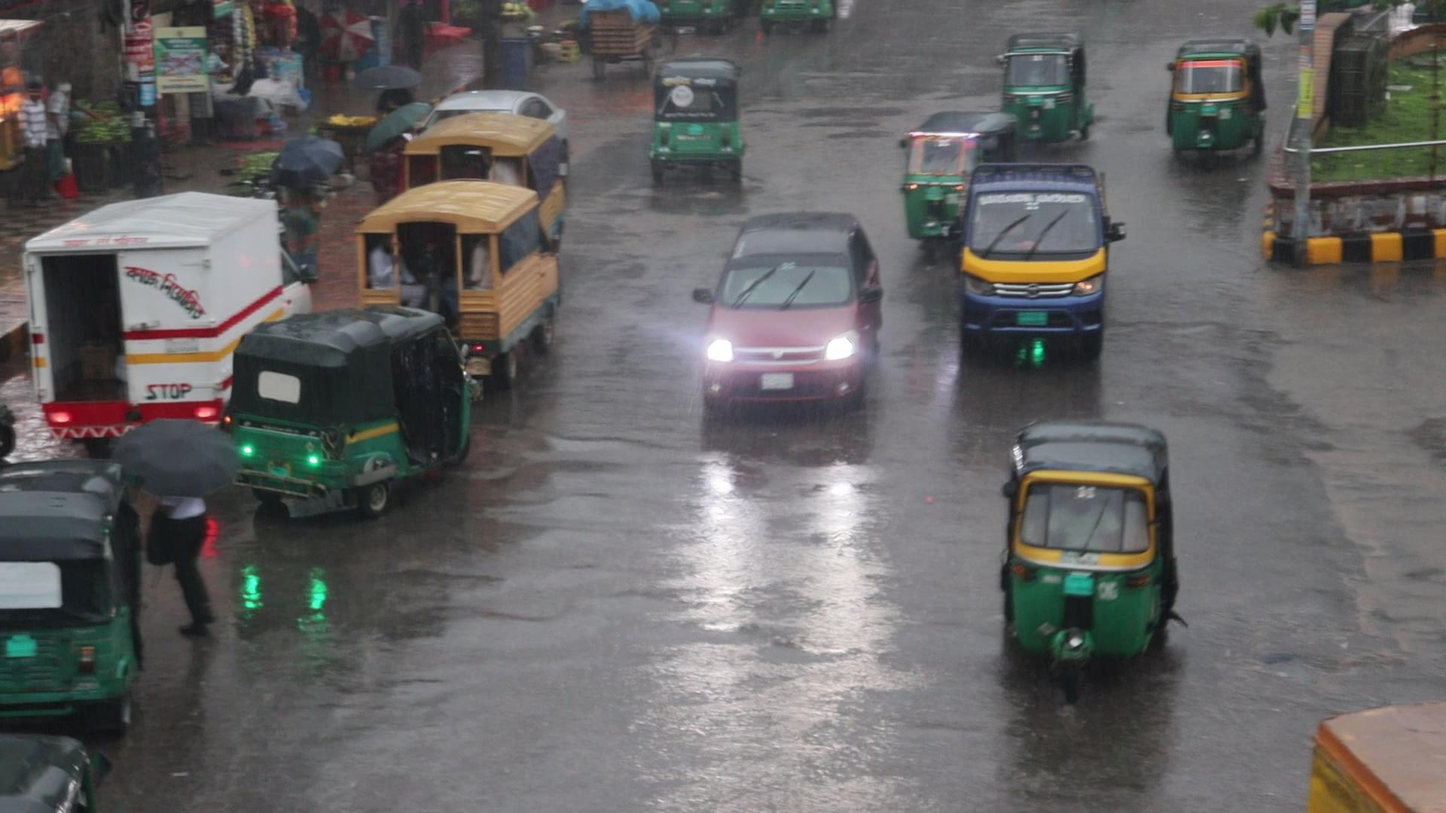Car: (690, 209, 885, 419)
Truck: (953, 160, 1126, 361), (352, 178, 564, 313)
